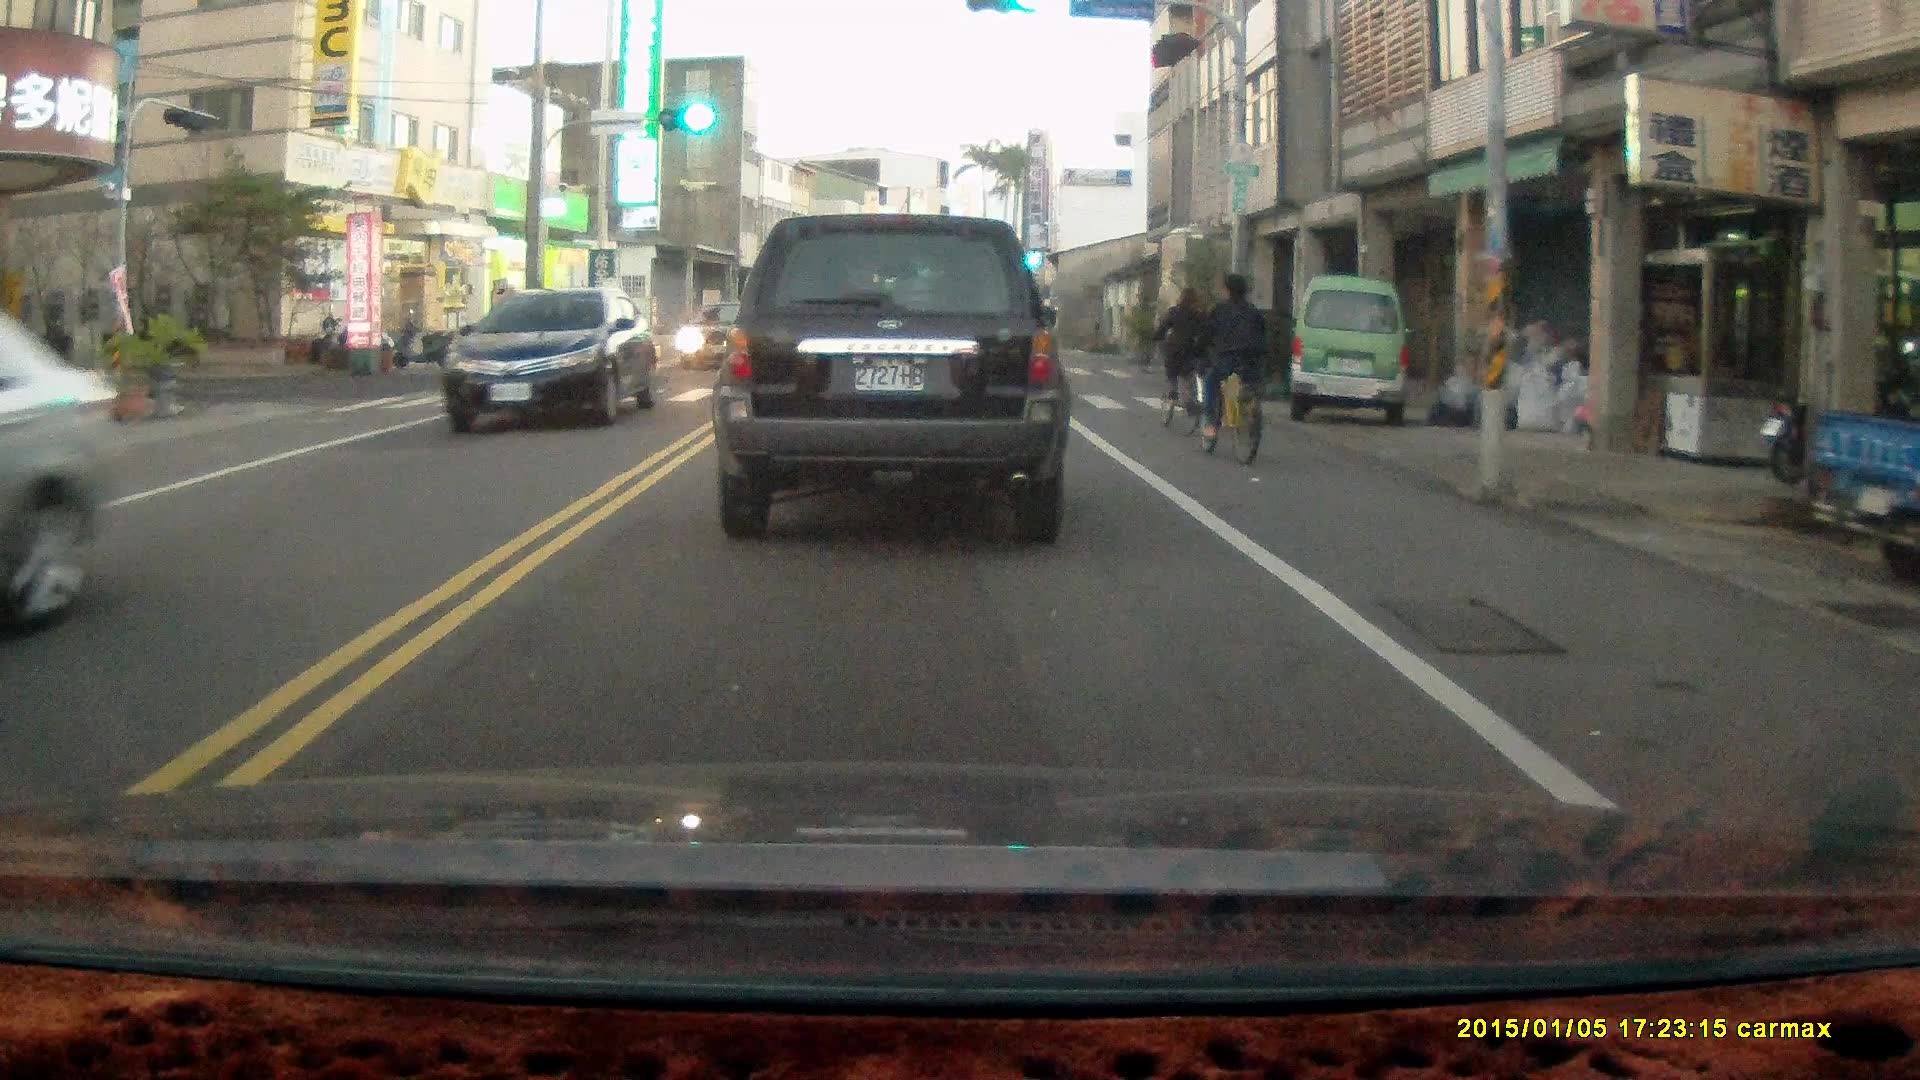rider: (1193, 269, 1268, 464), (1149, 279, 1215, 437)
vehicle: (716, 213, 1074, 541), (1, 312, 126, 647), (445, 283, 662, 435), (1288, 274, 1411, 429), (681, 299, 777, 374)
